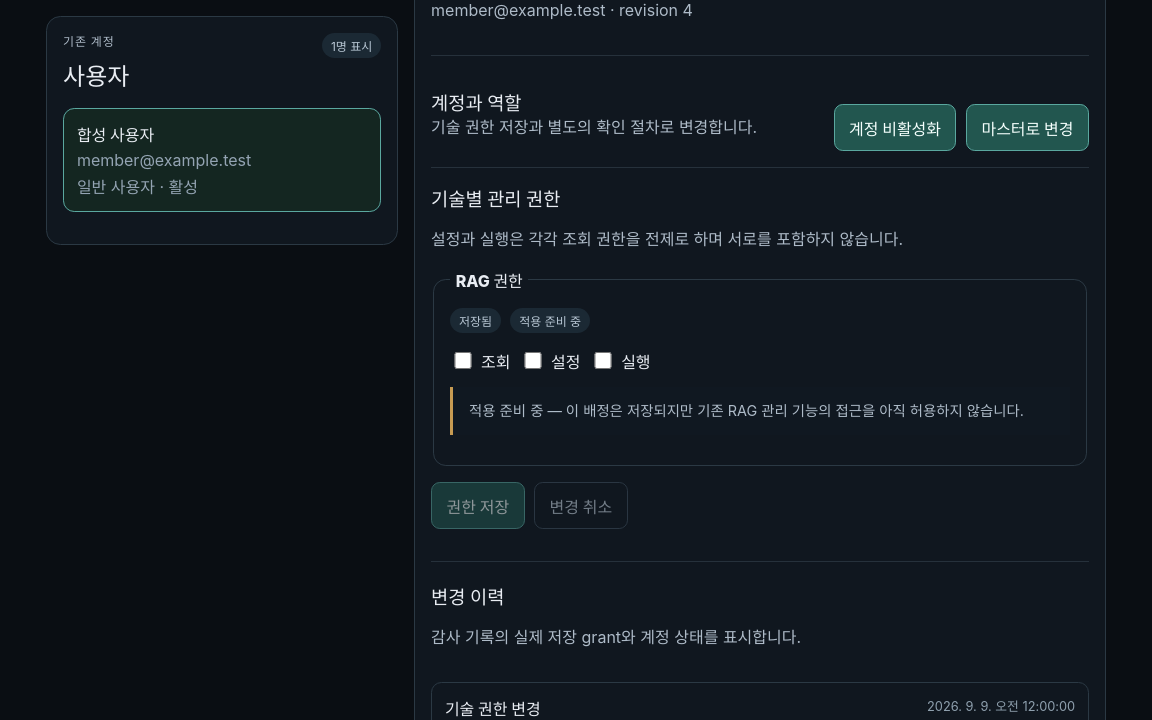
Test: auto-selects view for dependent capabilities, rejects removing their prerequisite, and cancels without saving
(page scrolled)
Click the checkbox labelled "설정": (533, 361) [524,352,542,370]
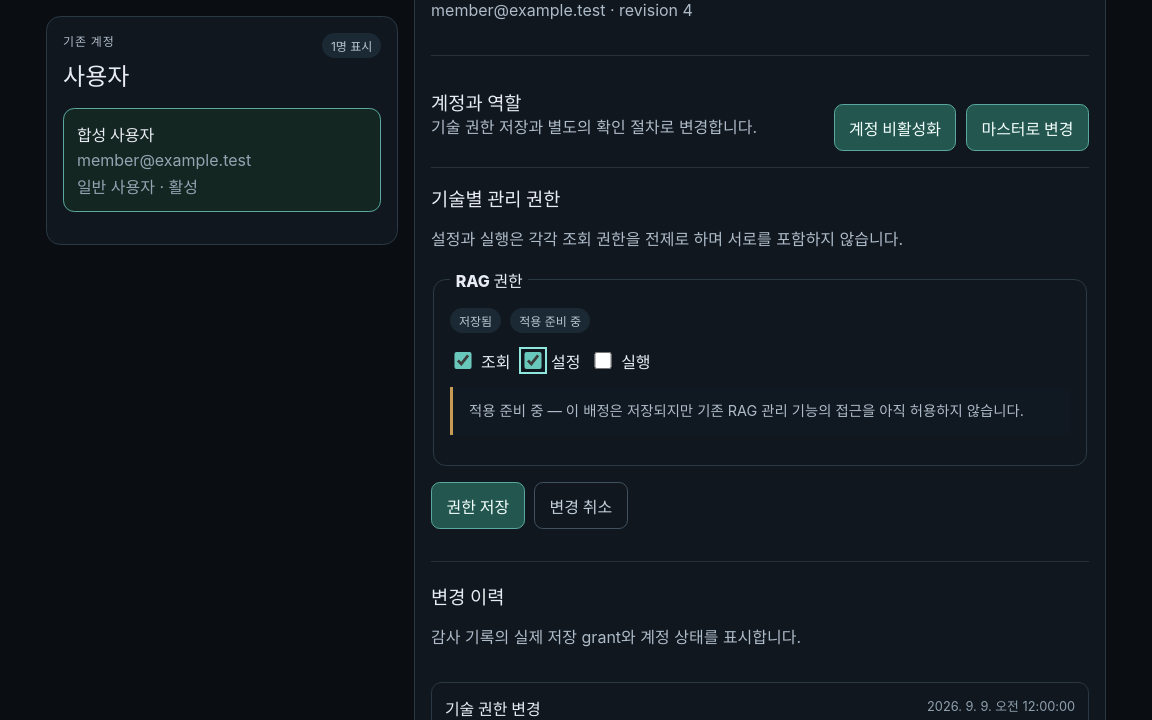
Expected: the checkbox labelled "설정" is checked, [524,352,542,370]
Expected: the checkbox labelled "조회" is checked
Expected: the button "권한 저장" is enabled, [431,482,525,529]
Click the checkbox labelled "조회": (463, 361) [454,352,472,370]
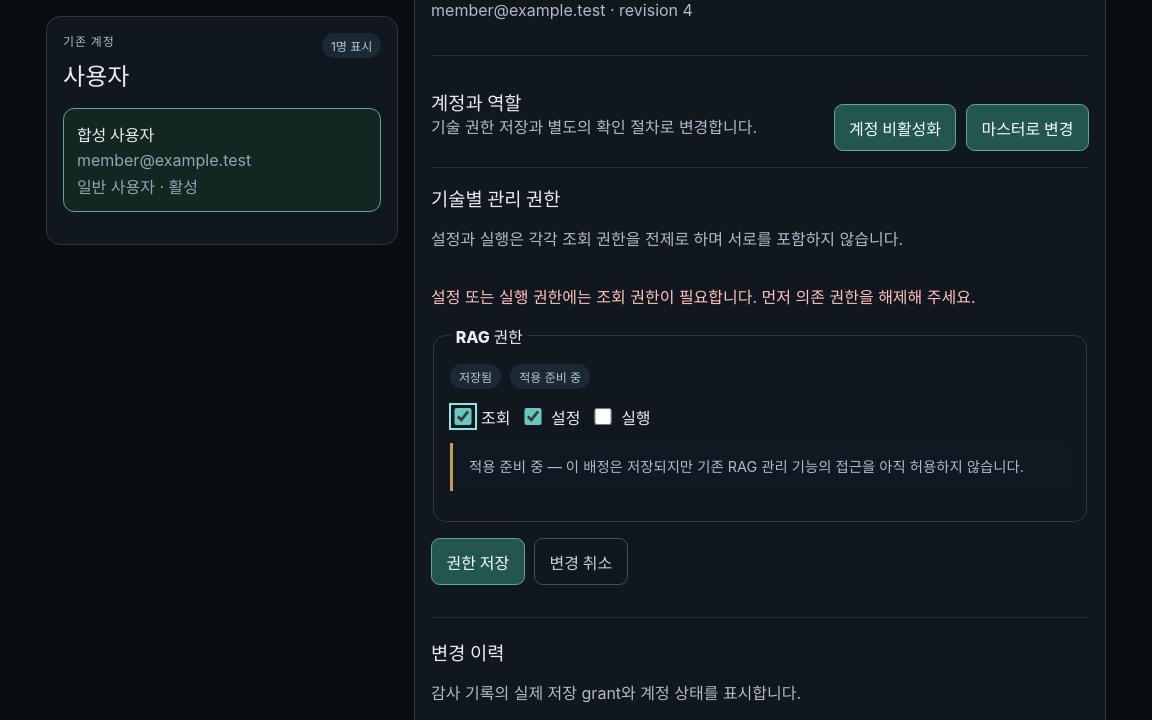
Expected: the checkbox labelled "조회" is checked, [454,408,472,426]
Expected: the message shows "설정 또는 실행 권한에는 조회 권한이 필요합니다", [431,287,976,307]
Click the button "변경 취소": (581, 562) [534,538,628,585]
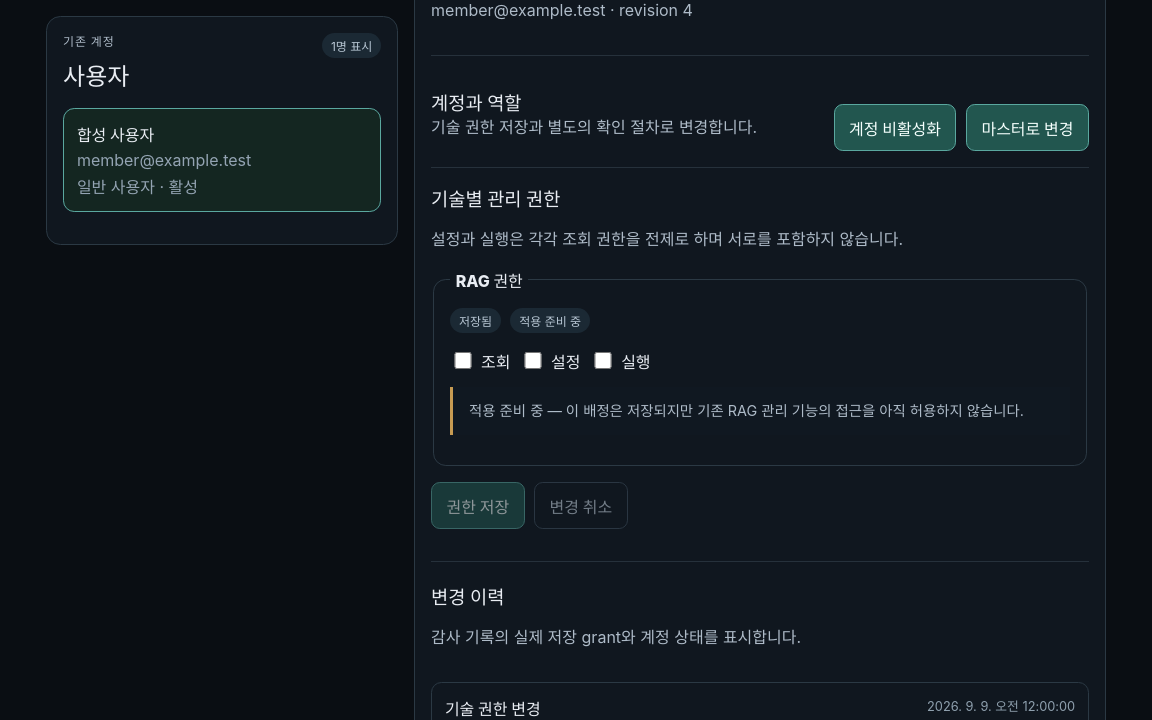
Expected: the checkbox labelled "조회" is not checked, [454,352,472,370]
Expected: the checkbox labelled "설정" is not checked, [524,352,542,370]
Expected: the button "권한 저장" is disabled, [431,482,525,529]
